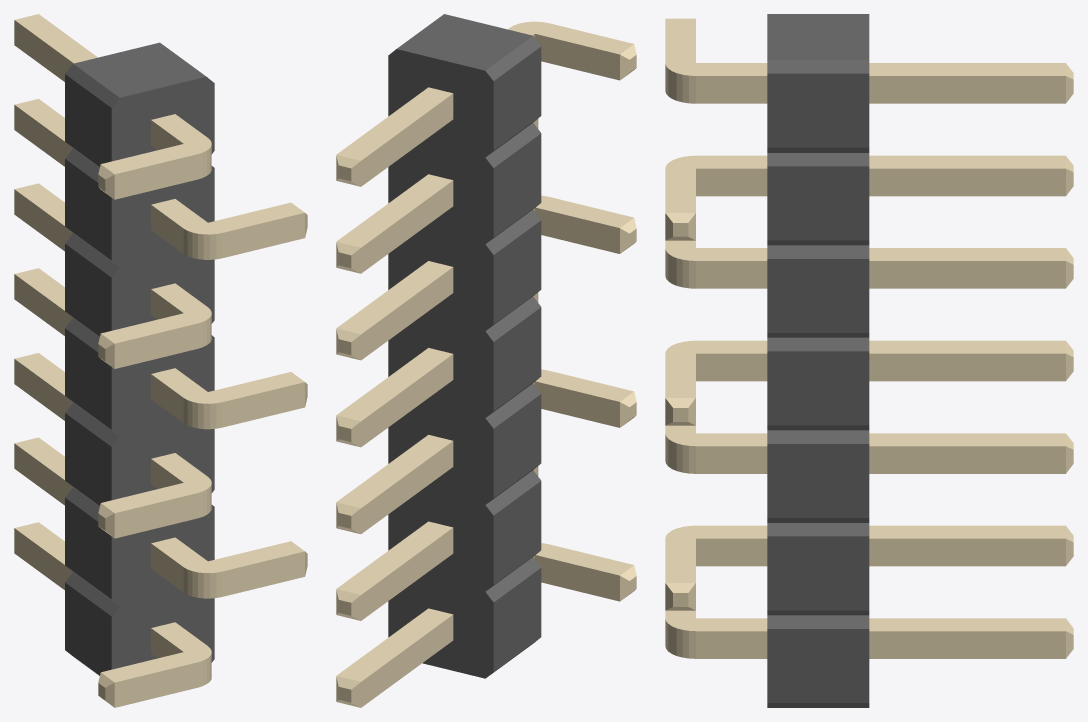
The model's file is PinHeader_1x07_P1.00mm_Vertical_SMD_Pin1Right.glb.
3 views of the same model, side by side, from view 1: azimuth 30°, elevation 25°; view 2: azimuth 150°, elevation 25°; view 3: azimuth 270°, elevation 25° (orthographic). The views are drawn at different scales.
Visible parts, largest first — view 1: Shape_IndexedFaceSet.003, Shape_IndexedFaceSet.001, Shape_IndexedFaceSet.013, Shape_IndexedFaceSet.037, Shape_IndexedFaceSet.025, Shape_IndexedFaceSet.007, Shape_IndexedFaceSet.043, Shape_IndexedFaceSet.031, Shape_IndexedFaceSet.019, Shape_IndexedFaceSet.053, Shape_IndexedFaceSet.056, Shape_IndexedFaceSet.059 (+42 smaller); view 2: Shape_IndexedFaceSet.004, Shape_IndexedFaceSet.001, Shape_IndexedFaceSet.007, Shape_IndexedFaceSet.019, Shape_IndexedFaceSet.013, Shape_IndexedFaceSet.043, Shape_IndexedFaceSet.031, Shape_IndexedFaceSet.037, Shape_IndexedFaceSet.025, Shape_IndexedFaceSet.076, Shape_IndexedFaceSet.083, Shape_IndexedFaceSet.086 (+26 smaller); view 3: Shape_IndexedFaceSet.034, Shape_IndexedFaceSet.002, Shape_IndexedFaceSet.010, Shape_IndexedFaceSet.022, Shape_IndexedFaceSet.016, Shape_IndexedFaceSet.028, Shape_IndexedFaceSet.040, Shape_IndexedFaceSet.078, Shape_IndexedFaceSet.085, Shape_IndexedFaceSet.090, Shape_IndexedFaceSet.074, Shape_IndexedFaceSet.088 (+35 smaller).
Boxes of the visible parts, bbox=[...] form: Shape_IndexedFaceSet.003: bbox=[111, 76, 214, 669]; Shape_IndexedFaceSet.001: bbox=[73, 42, 205, 97]; Shape_IndexedFaceSet.013: bbox=[65, 159, 111, 260]; Shape_IndexedFaceSet.037: bbox=[65, 498, 111, 598]; Shape_IndexedFaceSet.025: bbox=[65, 328, 111, 429]; Shape_IndexedFaceSet.007: bbox=[65, 74, 111, 166]; Shape_IndexedFaceSet.043: bbox=[65, 582, 111, 675]; Shape_IndexedFaceSet.031: bbox=[65, 413, 111, 505]; Shape_IndexedFaceSet.019: bbox=[65, 244, 111, 336]; Shape_IndexedFaceSet.053: bbox=[151, 199, 304, 234]; Shape_IndexedFaceSet.056: bbox=[151, 368, 304, 403]; Shape_IndexedFaceSet.059: bbox=[101, 114, 211, 174]; Shape_IndexedFaceSet.004: bbox=[388, 49, 493, 678]; Shape_IndexedFaceSet.001: bbox=[397, 14, 532, 70]; Shape_IndexedFaceSet.007: bbox=[493, 47, 541, 150]; Shape_IndexedFaceSet.019: bbox=[493, 220, 541, 324]; Shape_IndexedFaceSet.013: bbox=[493, 133, 541, 237]; Shape_IndexedFaceSet.043: bbox=[493, 568, 541, 671]; Shape_IndexedFaceSet.031: bbox=[493, 394, 541, 497]; Shape_IndexedFaceSet.037: bbox=[493, 481, 541, 584]; Shape_IndexedFaceSet.025: bbox=[493, 307, 541, 410]; Shape_IndexedFaceSet.076: bbox=[361, 267, 453, 360]; Shape_IndexedFaceSet.083: bbox=[361, 354, 453, 446]; Shape_IndexedFaceSet.086: bbox=[361, 93, 453, 186]; Shape_IndexedFaceSet.034: bbox=[767, 536, 869, 610]; Shape_IndexedFaceSet.002: bbox=[767, 73, 869, 147]; Shape_IndexedFaceSet.010: bbox=[767, 166, 869, 240]; Shape_IndexedFaceSet.022: bbox=[767, 351, 869, 425]; Shape_IndexedFaceSet.016: bbox=[767, 259, 869, 332]; Shape_IndexedFaceSet.028: bbox=[767, 444, 869, 517]; Shape_IndexedFaceSet.040: bbox=[767, 629, 869, 702]; Shape_IndexedFaceSet.078: bbox=[869, 168, 1065, 196]; Shape_IndexedFaceSet.085: bbox=[869, 353, 1065, 381]; Shape_IndexedFaceSet.090: bbox=[869, 538, 1065, 566]; Shape_IndexedFaceSet.074: bbox=[869, 261, 1065, 288]; Shape_IndexedFaceSet.088: bbox=[869, 76, 1065, 103].
Bounding box in the file's own units: 0.984 × 2.76 × 1.58.
